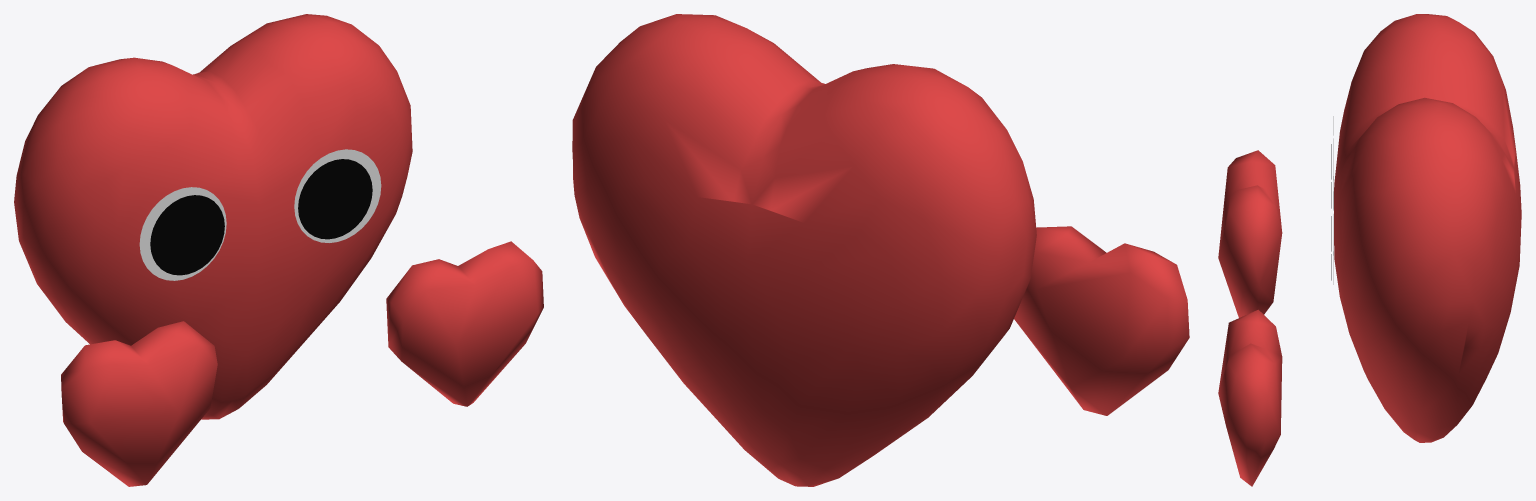
File: haerton.fbx
The picture shows the model from 3 angles, left to right: view 1: azimuth 30°, elevation 25°; view 2: azimuth 150°, elevation 25°; view 3: azimuth 270°, elevation 25°; orthographic projection. The views are drawn at different scales.
Visible parts, largest first — view 1: 12190_Heart_v1_L3, 12190_Heart_v1_L3.001, 円錐.004, 円錐.003; view 2: 12190_Heart_v1_L3, 12190_Heart_v1_L3.001; view 3: 12190_Heart_v1_L3, 12190_Heart_v1_L3.001.
Boxes of the visible parts, x1,y1,x2,y2 form: 12190_Heart_v1_L3: (14, 14, 412, 419); 12190_Heart_v1_L3.001: (61, 241, 543, 486); 円錐.004: (150, 159, 372, 275); 円錐.003: (139, 149, 381, 280); 12190_Heart_v1_L3: (572, 14, 1036, 486); 12190_Heart_v1_L3.001: (1014, 226, 1189, 415); 12190_Heart_v1_L3: (1334, 14, 1521, 442); 12190_Heart_v1_L3.001: (1218, 150, 1282, 486).
Bounding box in the file's own units: 268 × 198 × 147.
